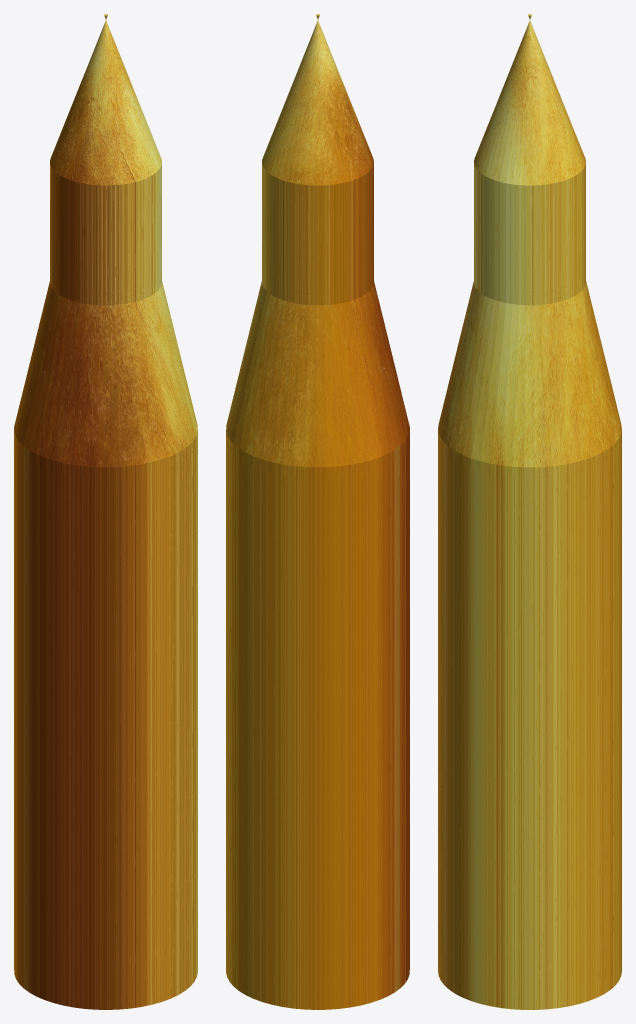
File: gatlingprojectile.FBX
The picture shows the model from 3 angles, left to right: view 1: azimuth 30°, elevation 25°; view 2: azimuth 150°, elevation 25°; view 3: azimuth 270°, elevation 25°; orthographic projection.
Parts seen in each view (by area): view 1: Zylinder001; view 2: Zylinder001; view 3: Zylinder001.
Boxes of the visible parts, box(x1,y1,x2,y2) form: Zylinder001: box(14, 14, 197, 1009); Zylinder001: box(226, 14, 409, 1009); Zylinder001: box(438, 14, 621, 1009).
Size of the model in its own units: 1.57 by 9.04 by 1.57.
1 material, 1 textured.
